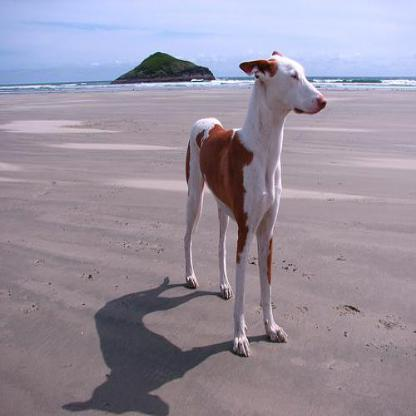dog: (174, 51, 337, 361)
